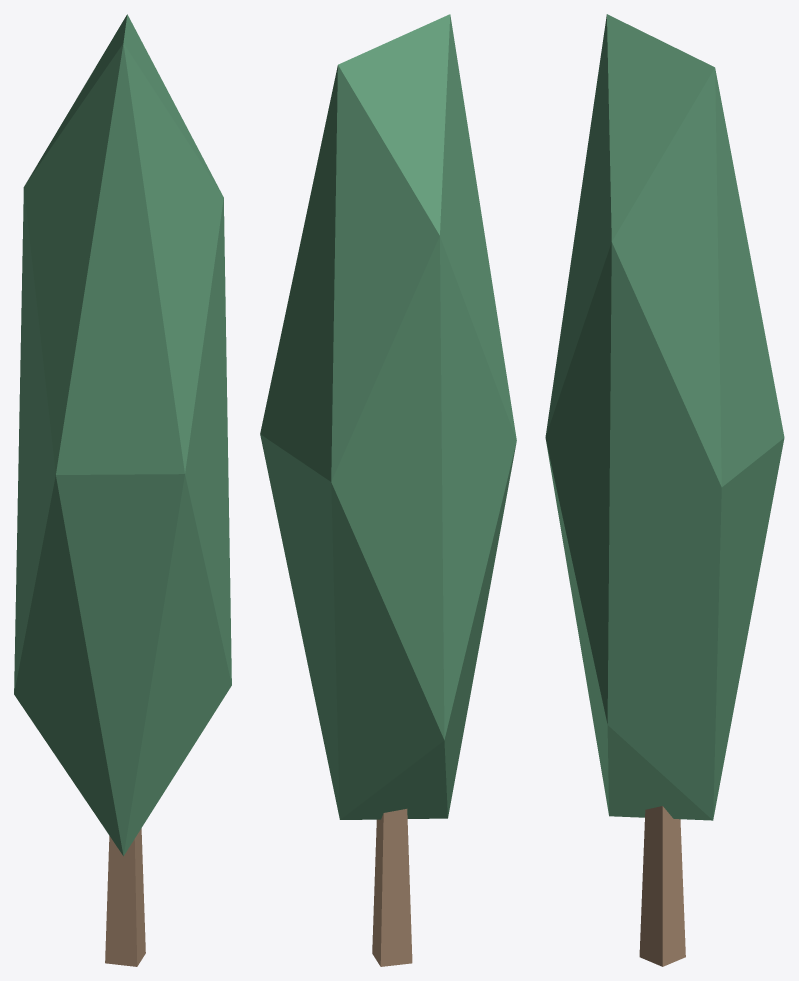
Rendered from cipreste_0_lod.fbx.
3 renders of one model, left to right at view 1: azimuth 30°, elevation 25°; view 2: azimuth 150°, elevation 25°; view 3: azimuth 270°, elevation 25°, orthographic.
Visible parts, largest first — view 1: cipreste_0_lod~Copa@cypress, cipreste_0_lod~Tronco@bark; view 2: cipreste_0_lod~Copa@cypress, cipreste_0_lod~Tronco@bark; view 3: cipreste_0_lod~Copa@cypress, cipreste_0_lod~Tronco@bark.
Part boxes in pixels (bbox=[...]): cipreste_0_lod~Copa@cypress: bbox=[14, 14, 231, 855]; cipreste_0_lod~Tronco@bark: bbox=[105, 828, 145, 966]; cipreste_0_lod~Copa@cypress: bbox=[260, 14, 516, 819]; cipreste_0_lod~Tronco@bark: bbox=[372, 809, 412, 966]; cipreste_0_lod~Copa@cypress: bbox=[545, 14, 784, 820]; cipreste_0_lod~Tronco@bark: bbox=[639, 806, 685, 966].
Bounding box in the file's own units: 1.78 × 7.95 × 1.86.
